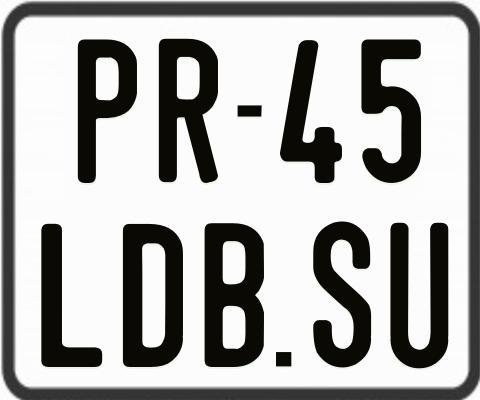4: (278, 40, 342, 186)
5: (359, 36, 424, 183)
B: (203, 220, 263, 366)
D: (120, 222, 181, 365)
L: (40, 224, 104, 370)
P: (75, 37, 140, 186)
R: (156, 38, 220, 188)
S: (313, 219, 373, 366)
U: (388, 223, 448, 372)
